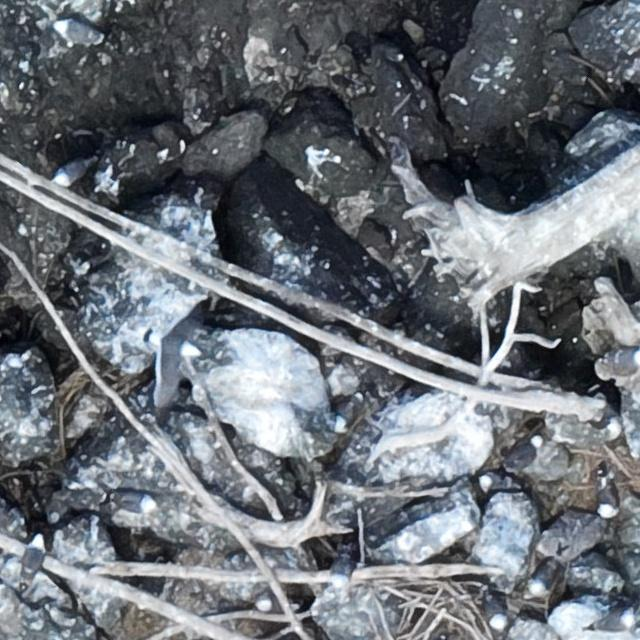F: (144, 304, 208, 401)
umineko: (526, 554, 558, 598), (106, 490, 157, 516), (50, 159, 94, 185), (55, 20, 97, 44), (332, 395, 359, 428), (485, 595, 506, 634), (511, 438, 540, 466), (255, 598, 299, 614), (596, 482, 615, 518), (23, 538, 42, 573), (607, 350, 639, 370), (480, 474, 504, 490)
